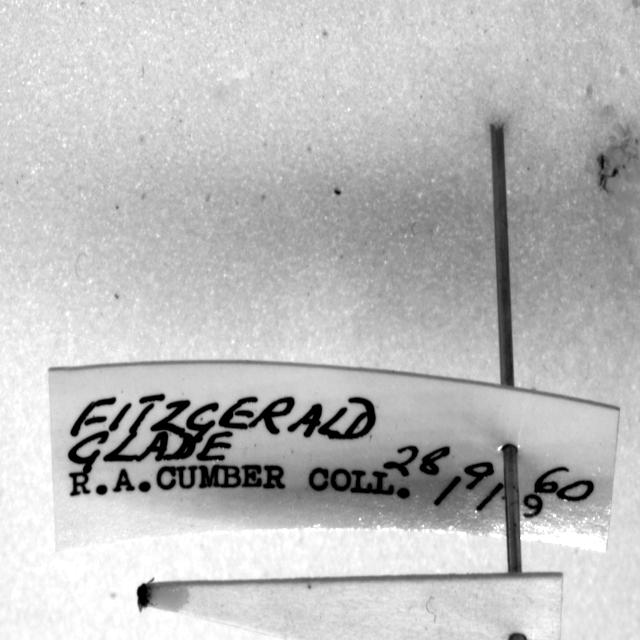mixed_label: (49, 362, 619, 551)
